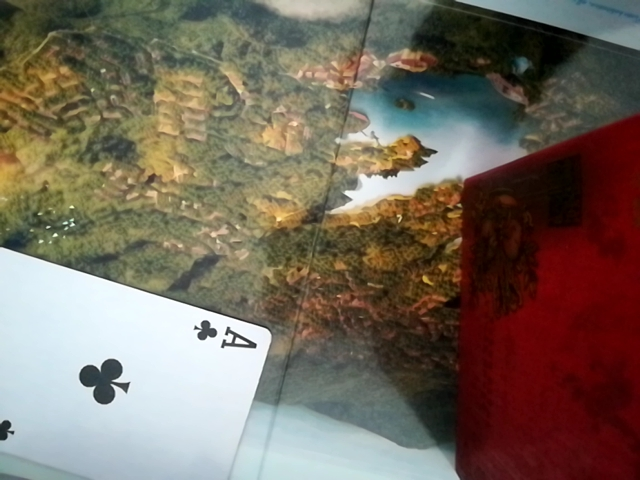mh a: (0, 236, 280, 480)
